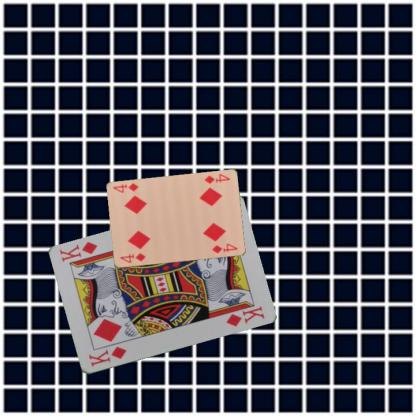4d: (202, 171, 231, 185), (117, 251, 146, 264)
Kd: (86, 344, 127, 368)
